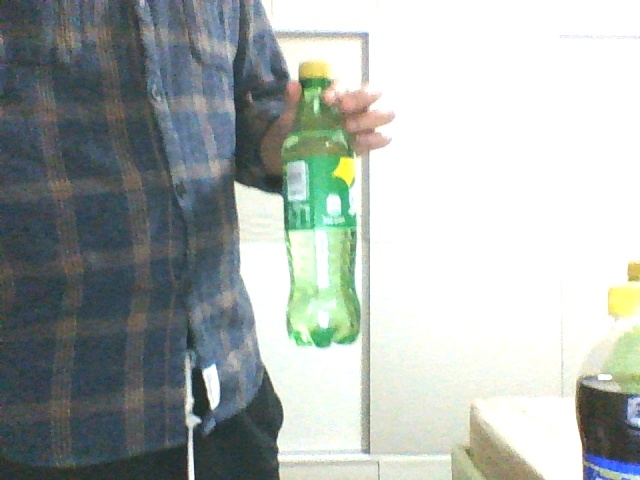Sprite: (281, 57, 357, 349)
